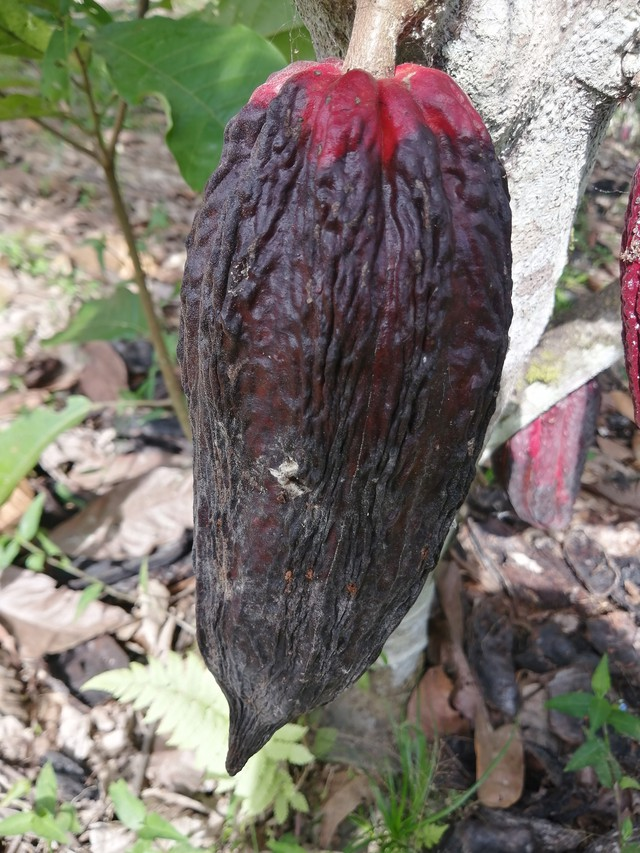phytophthora palmivora: (141, 41, 526, 788)
